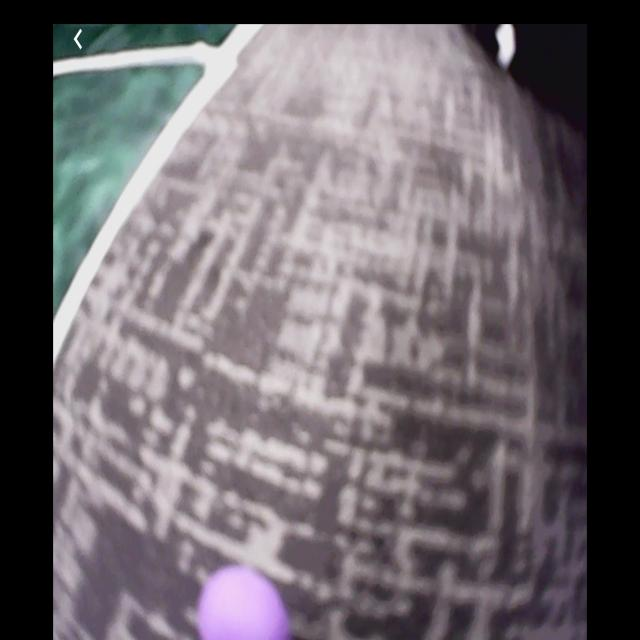ball: (197, 568, 291, 640)
